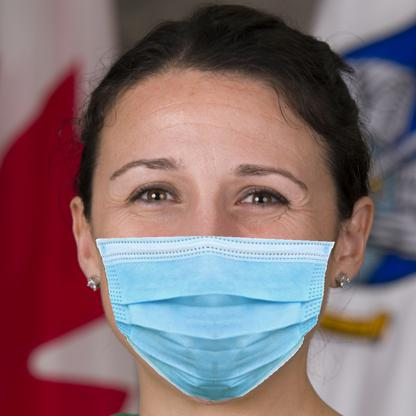mask: (91, 233, 338, 403)
